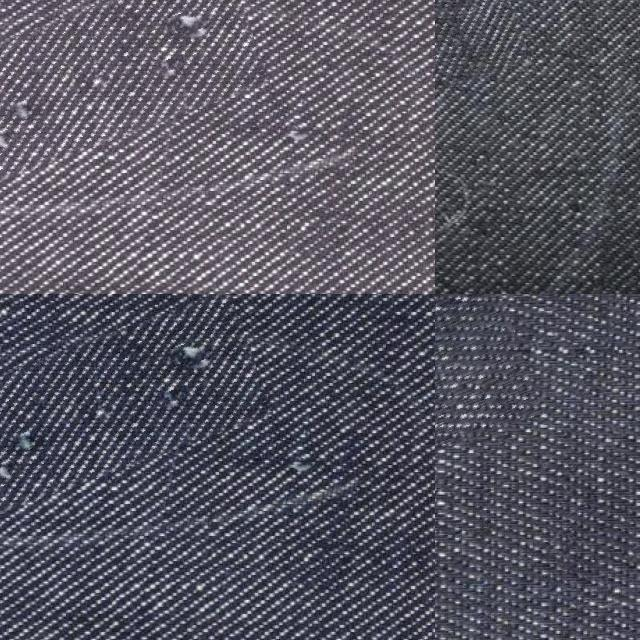Thread_other: (0, 314, 267, 496), (435, 294, 530, 515)
